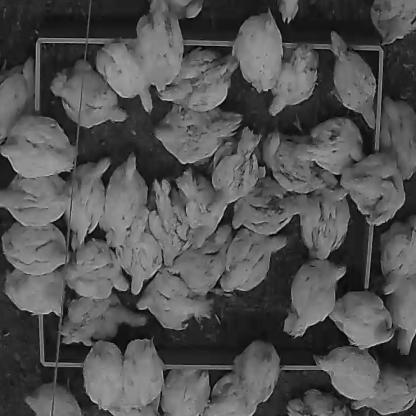chicken: (153, 99, 242, 166), (50, 58, 130, 128), (205, 125, 267, 215), (157, 46, 240, 112), (98, 149, 151, 252), (281, 257, 348, 338), (341, 149, 407, 228), (135, 267, 216, 331), (261, 128, 339, 194), (57, 291, 148, 346), (0, 115, 79, 178), (329, 30, 378, 130), (60, 155, 112, 246), (136, 1, 185, 97), (219, 227, 290, 293), (96, 38, 156, 116), (231, 6, 284, 94), (175, 168, 230, 251), (149, 177, 199, 267), (231, 177, 306, 236), (292, 188, 354, 259), (296, 117, 369, 177), (0, 168, 73, 227), (0, 218, 73, 276), (64, 240, 130, 300), (329, 292, 397, 350), (163, 239, 230, 297), (266, 44, 319, 116), (1, 264, 69, 320), (312, 347, 381, 401), (351, 361, 416, 415), (115, 224, 164, 295), (233, 340, 283, 406), (124, 335, 166, 411), (380, 92, 415, 179), (0, 57, 34, 146), (383, 267, 415, 356), (84, 339, 124, 410), (379, 219, 415, 295), (164, 364, 216, 415), (204, 372, 264, 415), (369, 1, 415, 47), (23, 382, 87, 415), (284, 387, 356, 415)
